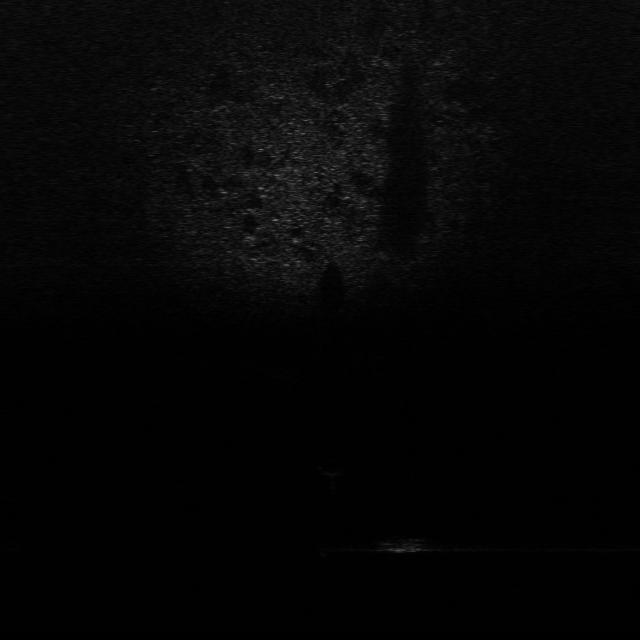ball: (313, 458, 348, 477)
metal bucket: (377, 528, 433, 557)
